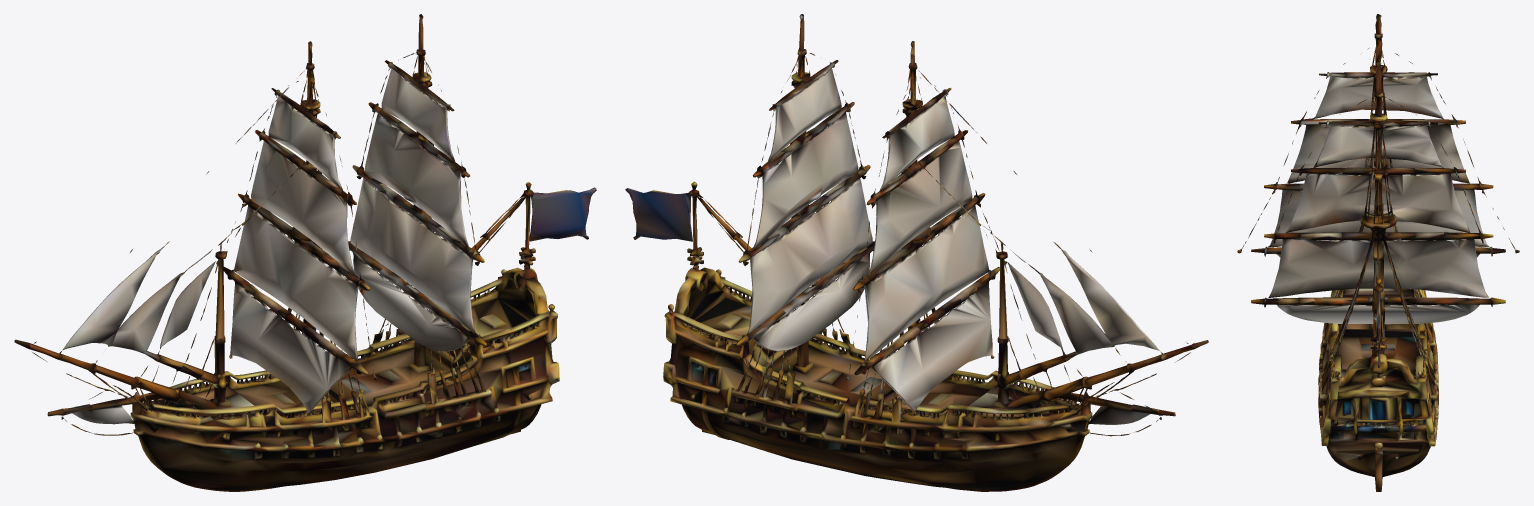
The model's file is ship-sails.glb.
3 renders of one model, left to right at view 1: azimuth 30°, elevation 25°; view 2: azimuth 150°, elevation 25°; view 3: azimuth 270°, elevation 25°, orthographic. The views are drawn at different scales.
Parts seen in each view (by area): view 1: world; view 2: world; view 3: world.
Part boxes in pixels (bbox=[...]): world: bbox=[14, 14, 596, 491]; world: bbox=[625, 14, 1208, 491]; world: bbox=[1237, 14, 1519, 491].
Bounding box in the file's own units: 2 × 1.45 × 0.9515.
